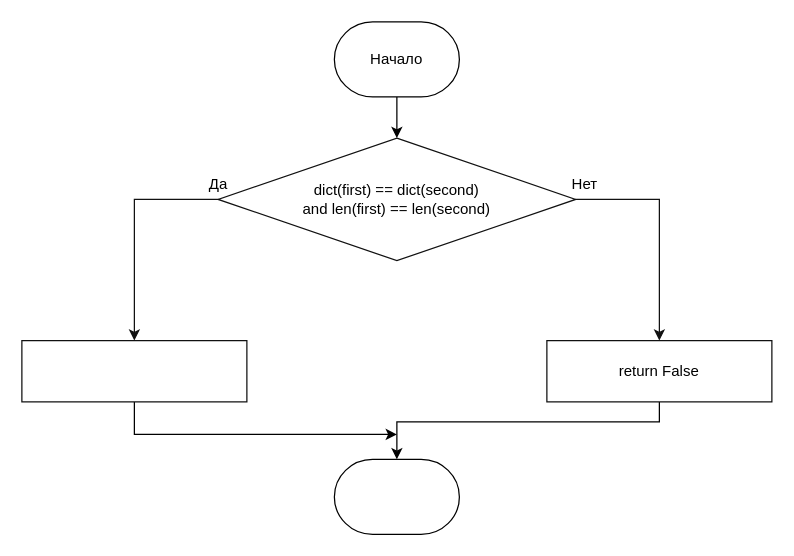
Some shapes in this 794 by 556 pixel diagram are drawn without their labels. Each missing label, with the box of its shape:
return True: (21, 339, 247, 402)
К онец: (333, 458, 459, 534)
